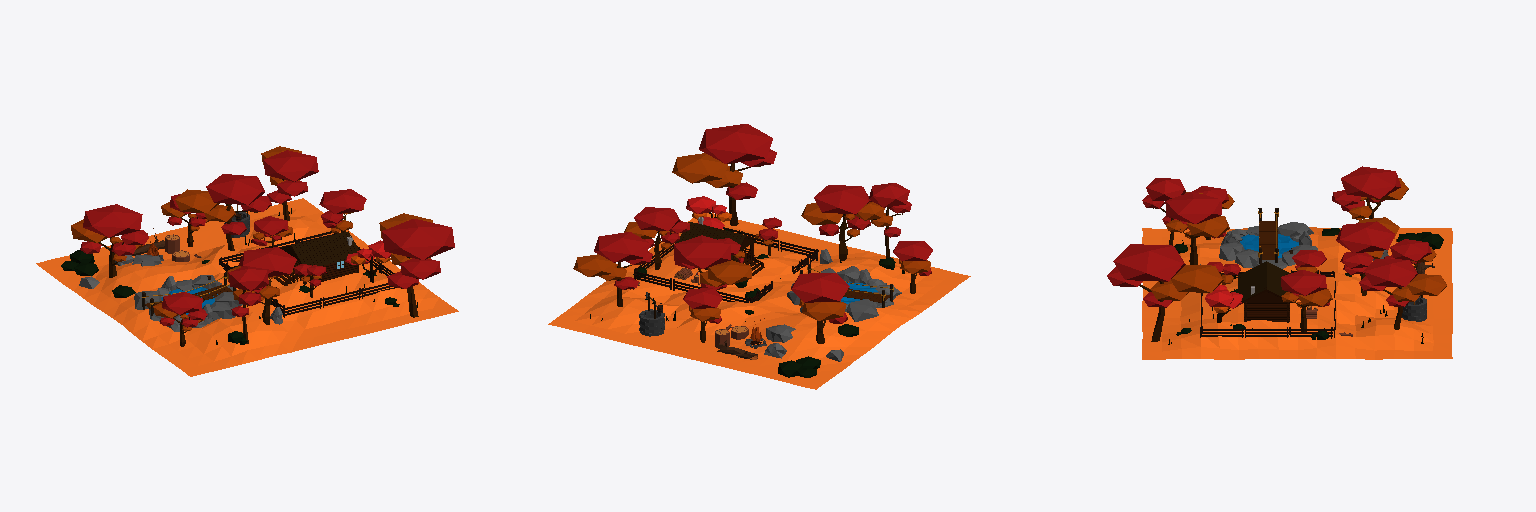
File: Forest_10x10.obj
3 renders of one model, left to right at view 1: azimuth 30°, elevation 25°; view 2: azimuth 150°, elevation 25°; view 3: azimuth 270°, elevation 25°, orthographic.
Visible parts, largest first — view 1: Plane, Icosphere.002_Icosphere.001_Icosphere.002_Icosphere.008, Icosphere.002_Icosphere.002_Icosphere.002_Icosphere.010, Icosphere.001_Icosphere.018, Cylinder.005_Cylinder.062, Icosphere.002_Icosphere.027, Icosphere.001_Icosphere.000_Icosphere.001_Icosphere.001, Icosphere.001_Icosphere.006_Icosphere.001_Icosphere.005, Icosphere.002_Icosphere.000_Icosphere.002_Icosphere.001, Icosphere.001_Icosphere.003_Icosphere.001_Icosphere.015, Icosphere.001_Icosphere.005_Icosphere.001_Icosphere.000; view 2: Plane, Icosphere.002_Icosphere.001_Icosphere.002_Icosphere.008, Icosphere.001_Icosphere.000_Icosphere.001_Icosphere.001, Icosphere.002_Icosphere.027, Icosphere.002_Icosphere.002_Icosphere.002_Icosphere.010, Icosphere.001_Icosphere.018, Icosphere.001_Icosphere.003_Icosphere.001_Icosphere.015, Icosphere.002_Icosphere.000_Icosphere.002_Icosphere.001, Icosphere.001_Icosphere.006_Icosphere.001_Icosphere.005, Cylinder.005_Cylinder.062, Icosphere.001_Icosphere.005_Icosphere.001_Icosphere.000; view 3: Plane, Icosphere.002_Icosphere.001_Icosphere.002_Icosphere.008, Icosphere.002_Icosphere.027, Icosphere.001_Icosphere.018, Icosphere.001_Icosphere.000_Icosphere.001_Icosphere.001, Cylinder.005_Cylinder.062, Icosphere.002_Icosphere.002_Icosphere.002_Icosphere.010, Icosphere.001_Icosphere.003_Icosphere.001_Icosphere.015, Icosphere.002_Icosphere.000_Icosphere.002_Icosphere.001, Icosphere.001_Icosphere.005_Icosphere.001_Icosphere.000.
Boxes of the visible parts, box(x1,y1,x2,y2) form: Plane: box(36, 198, 458, 376); Icosphere.002_Icosphere.001_Icosphere.002_Icosphere.008: box(379, 213, 454, 317); Icosphere.002_Icosphere.002_Icosphere.002_Icosphere.010: box(175, 174, 271, 250); Icosphere.001_Icosphere.018: box(71, 204, 148, 277); Cylinder.005_Cylinder.062: box(274, 231, 358, 285); Icosphere.002_Icosphere.027: box(261, 146, 318, 220); Icosphere.001_Icosphere.000_Icosphere.001_Icosphere.001: box(238, 247, 296, 324); Icosphere.001_Icosphere.006_Icosphere.001_Icosphere.005: box(153, 292, 207, 346); Icosphere.002_Icosphere.000_Icosphere.002_Icosphere.001: box(227, 266, 268, 343); Icosphere.001_Icosphere.003_Icosphere.001_Icosphere.015: box(319, 189, 366, 233); Icosphere.001_Icosphere.005_Icosphere.001_Icosphere.000: box(161, 194, 208, 246); Plane: box(548, 213, 970, 389); Icosphere.002_Icosphere.001_Icosphere.002_Icosphere.008: box(672, 124, 776, 225); Icosphere.001_Icosphere.000_Icosphere.001_Icosphere.001: box(801, 185, 871, 260); Icosphere.002_Icosphere.027: box(573, 232, 652, 306); Icosphere.002_Icosphere.002_Icosphere.002_Icosphere.010: box(674, 235, 751, 290); Icosphere.001_Icosphere.018: box(791, 273, 849, 343); Icosphere.001_Icosphere.003_Icosphere.001_Icosphere.015: box(624, 207, 689, 269); Icosphere.002_Icosphere.000_Icosphere.002_Icosphere.001: box(855, 183, 911, 257); Icosphere.001_Icosphere.006_Icosphere.001_Icosphere.005: box(893, 241, 932, 293); Cylinder.005_Cylinder.062: box(677, 217, 764, 275); Icosphere.001_Icosphere.005_Icosphere.001_Icosphere.000: box(683, 288, 722, 342); Plane: box(1142, 227, 1452, 359); Icosphere.002_Icosphere.001_Icosphere.002_Icosphere.008: box(1107, 244, 1223, 341); Icosphere.002_Icosphere.027: box(1359, 259, 1446, 329); Icosphere.001_Icosphere.018: box(1332, 166, 1408, 219); Icosphere.001_Icosphere.000_Icosphere.001_Icosphere.001: box(1165, 192, 1229, 264); Cylinder.005_Cylinder.062: box(1238, 261, 1292, 322); Icosphere.002_Icosphere.002_Icosphere.002_Icosphere.010: box(1336, 217, 1399, 295); Icosphere.001_Icosphere.003_Icosphere.001_Icosphere.015: box(1281, 270, 1332, 331); Icosphere.002_Icosphere.000_Icosphere.002_Icosphere.001: box(1142, 178, 1202, 245); Icosphere.001_Icosphere.005_Icosphere.001_Icosphere.000: box(1384, 239, 1436, 267).
Size of the model in its own units: 40.11 by 14.95 by 44.68.